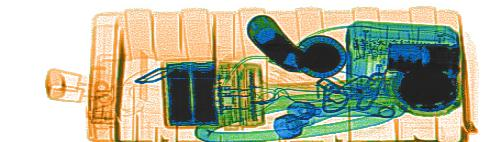battery: (162, 63, 218, 128)
